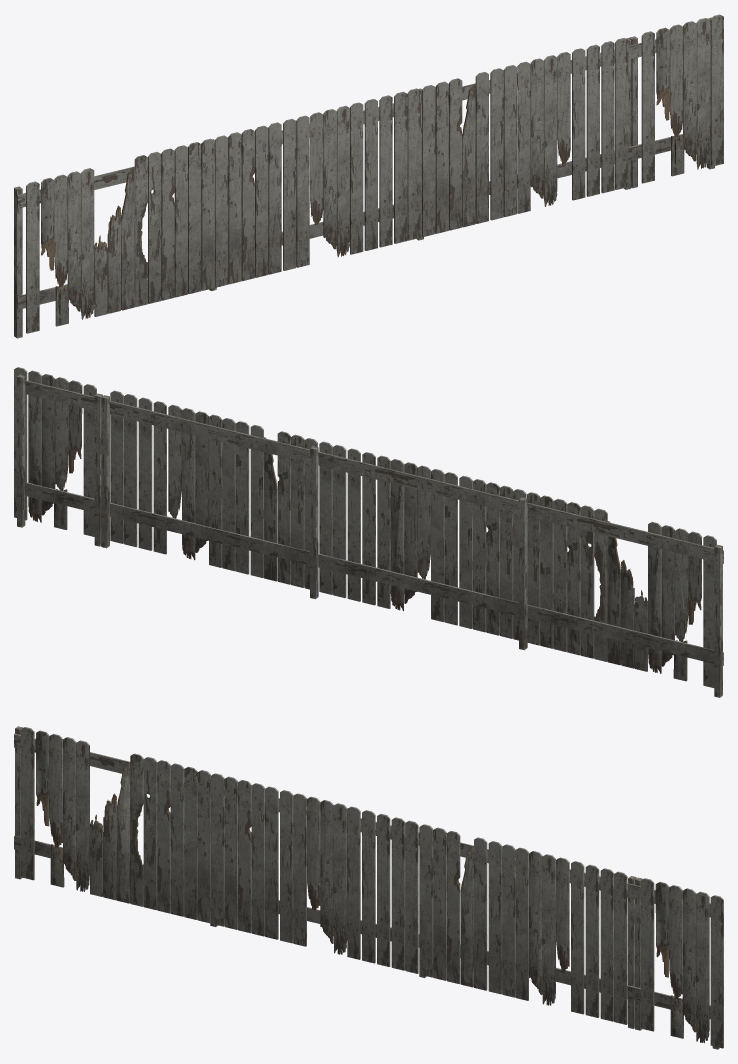
Rendered from rear.glb.
3 renders of one model, top to bottom at view 1: azimuth 30°, elevation 25°; view 2: azimuth 150°, elevation 25°; view 3: azimuth 330°, elevation 25°, orthographic.
Parts seen in each view (by area): view 1: GroundBeam1_game; view 2: GroundBeam1_game; view 3: GroundBeam1_game.
Boxes of the visible parts, left/top/right/bottom form: GroundBeam1_game: left=14, top=14, right=723, bottom=338; GroundBeam1_game: left=14, top=367, right=723, bottom=697; GroundBeam1_game: left=14, top=726, right=723, bottom=1049.
Size of the model in its own units: 10.53 by 2.19 by 0.1312.
1 material, 1 textured.
